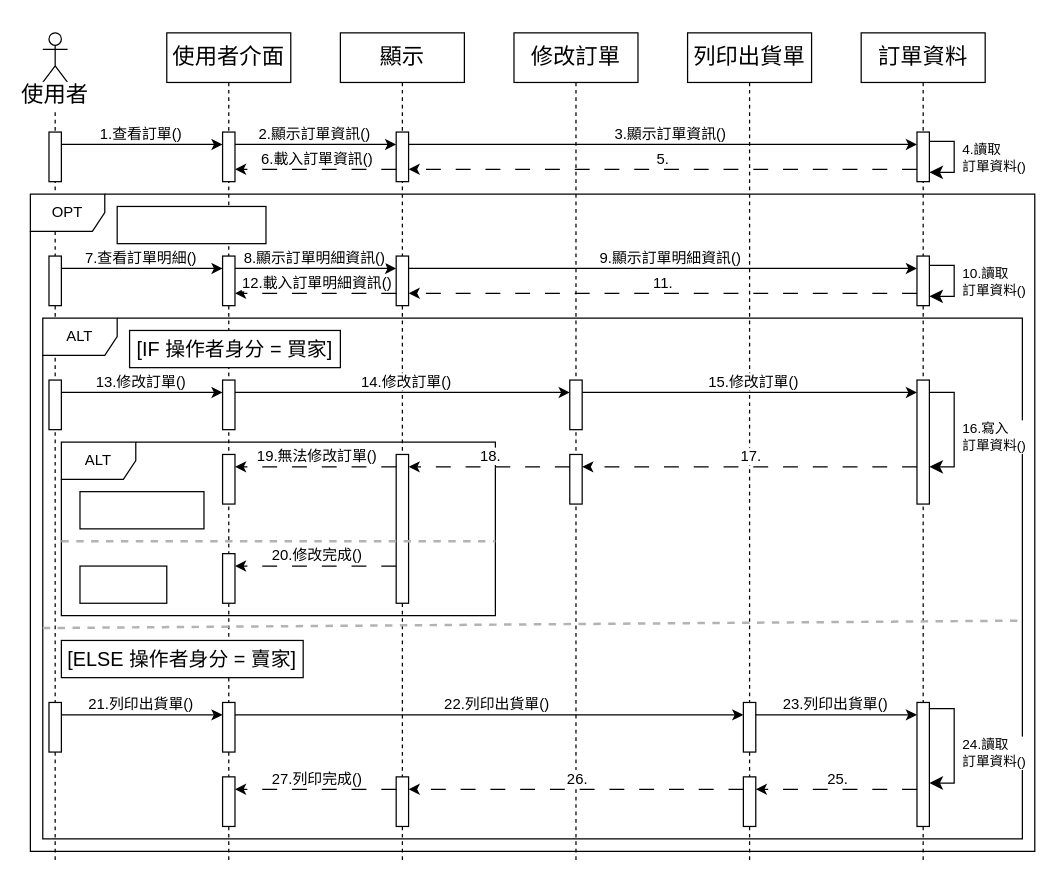
The diagram is 1056 pixels wide and 885 high, and some of its shapes have lost their labels. Each missing label, with the centre of its shape:
[ELSE]: the point at 123,584
[IF 訂單鎖定]: the point at 141,509
[查看特定訂單]: the point at 191,224
